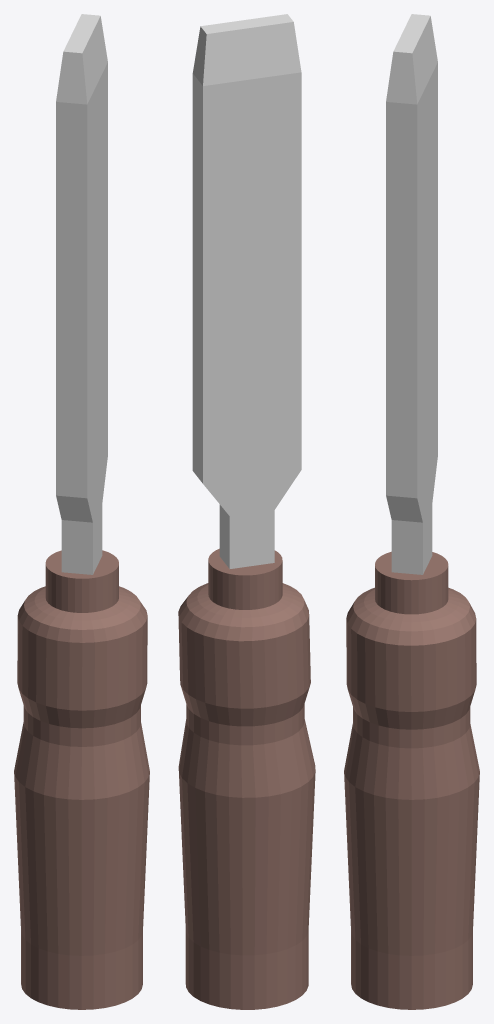
The model's file is Chisel.fbx.
The picture shows the model from 3 angles, left to right: view 1: azimuth 90°, elevation 25°; view 2: azimuth 210°, elevation 25°; view 3: azimuth 270°, elevation 25°; orthographic projection.
Parts seen in each view (by area): view 1: Chisel; view 2: Chisel; view 3: Chisel.
Boxes of the visible parts, x1=… form: Chisel: x1=14, y1=14, x2=149, y2=1009; Chisel: x1=178, y1=14, x2=315, y2=1009; Chisel: x1=344, y1=14, x2=479, y2=1009.
Bounding box in the file's own units: 9.8 × 9.78 × 75.42.
